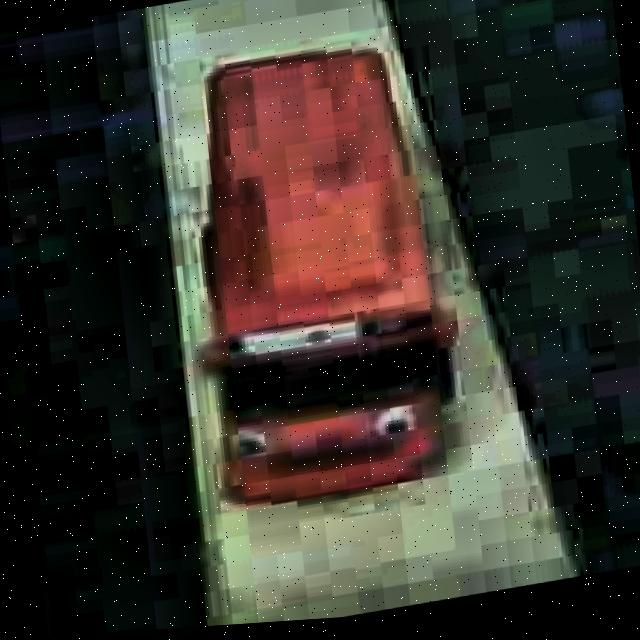bus: (168, 17, 474, 529)
